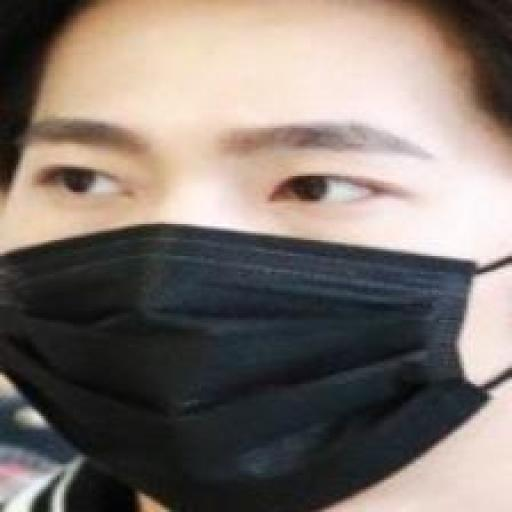mask: (1, 209, 491, 512)
